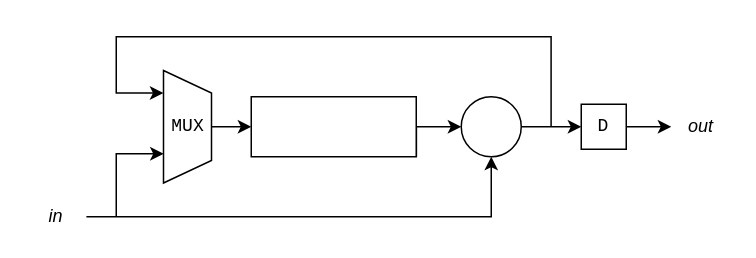
The diagram is 756 pixels wide and 258 high, and some of its shapes have lost their labels. The shapes that lost their labels are listed below. From the top down, each one's box as (x1, y1, x2, y2) in pixels, then its label:
(250, 95, 416, 157): FIFO
(460, 95, 521, 157): ADD
